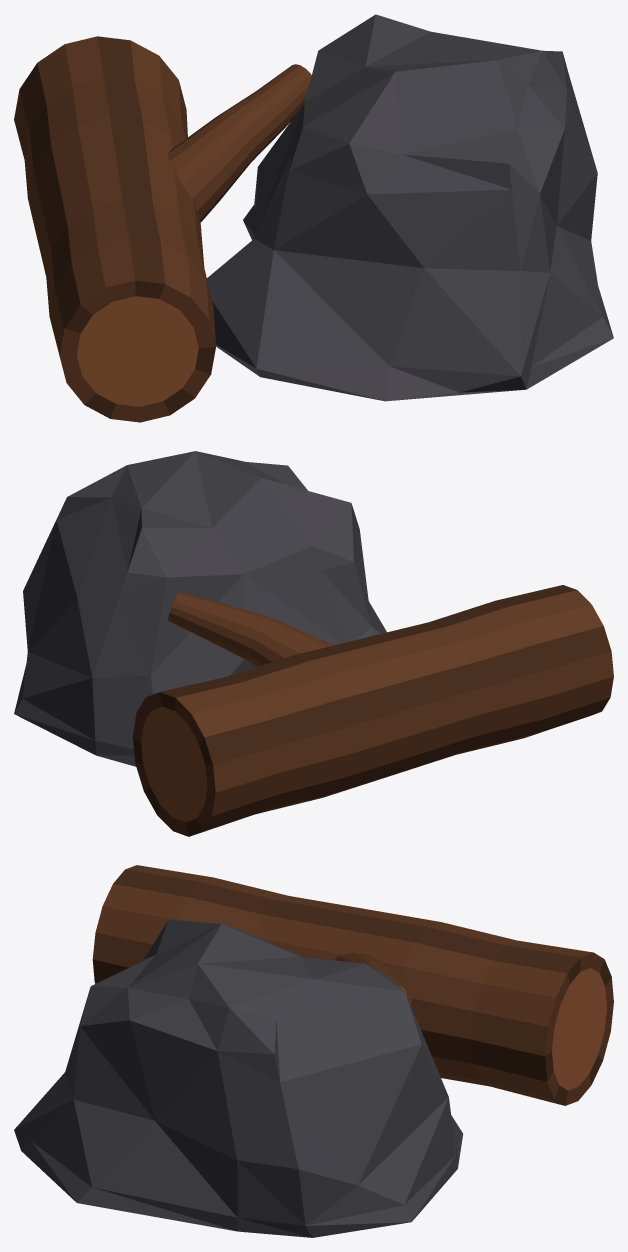
The model's file is Rock2.fbx.
3 renders of one model, top to bottom at view 1: azimuth 30°, elevation 25°; view 2: azimuth 150°, elevation 25°; view 3: azimuth 270°, elevation 25°, orthographic. The views are drawn at different scales.
Parts seen in each view (by area): view 1: Cylinder.003; view 2: Cylinder.003; view 3: Cylinder.003.
Part boxes in pixels (bbox=[...]): Cylinder.003: bbox=[14, 14, 613, 422]; Cylinder.003: bbox=[14, 451, 613, 836]; Cylinder.003: bbox=[14, 865, 613, 1237].
Bounding box in the file's own units: 184 × 70.39 × 175.
